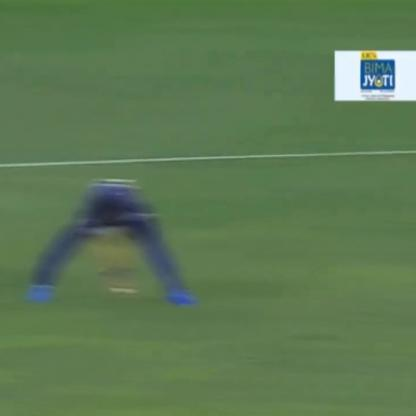ball: (124, 278, 141, 298), (103, 282, 123, 296)
